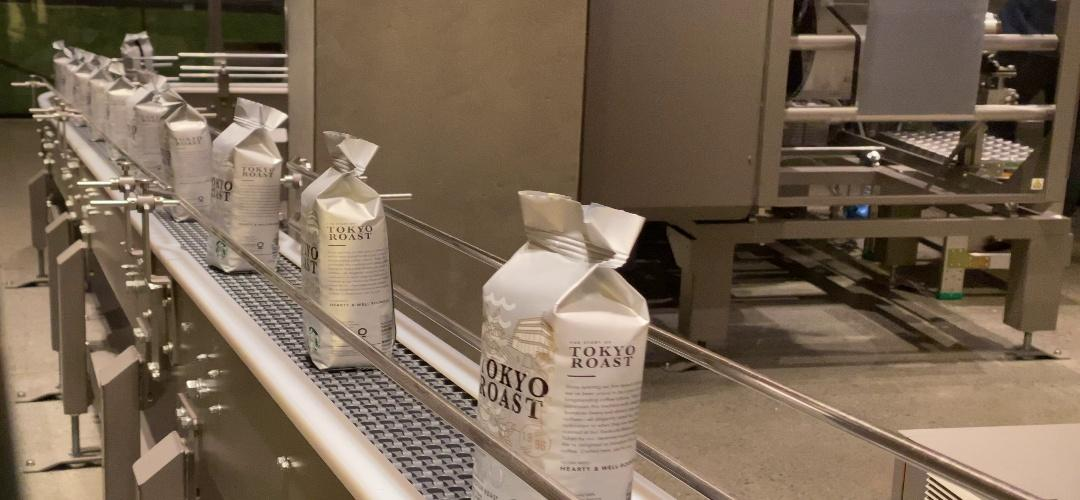conveyor: (481, 288, 635, 440), (299, 195, 392, 284), (212, 142, 280, 223)
